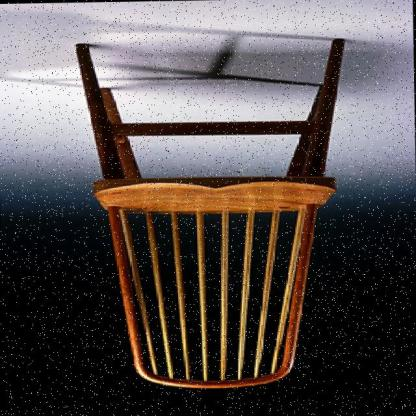Chair: (48, 19, 380, 404)
